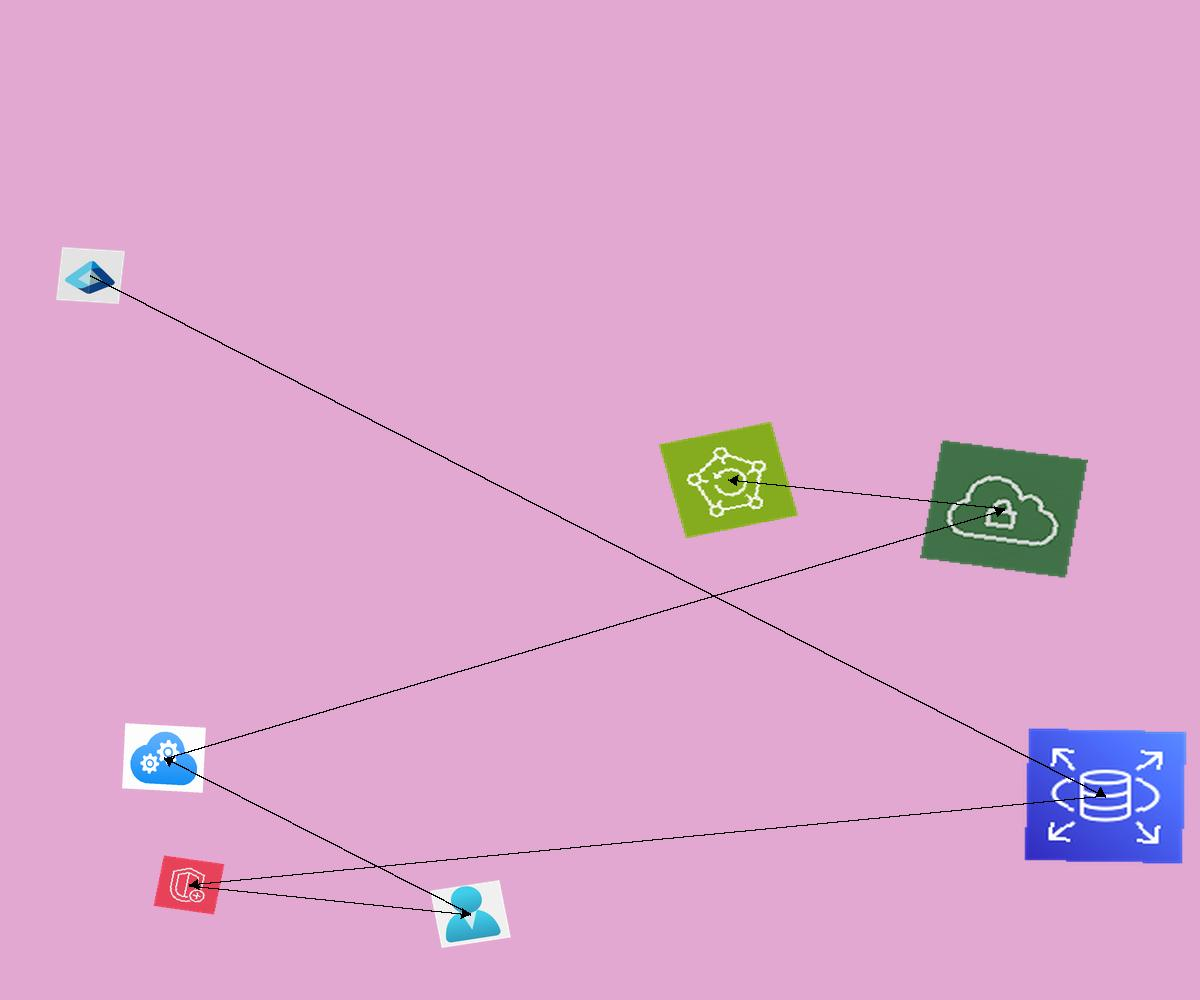AWS-Backup: (658, 421, 799, 539)
AWS-Private_vpc: (920, 439, 1088, 579)
AWS-RDS: (1023, 727, 1188, 865)
AWS-Shield: (153, 855, 225, 915)
Azure_cloud_services: (122, 723, 206, 793)
Azure_microsoft_entra: (56, 247, 125, 304)
Azure_users: (430, 880, 511, 948)
